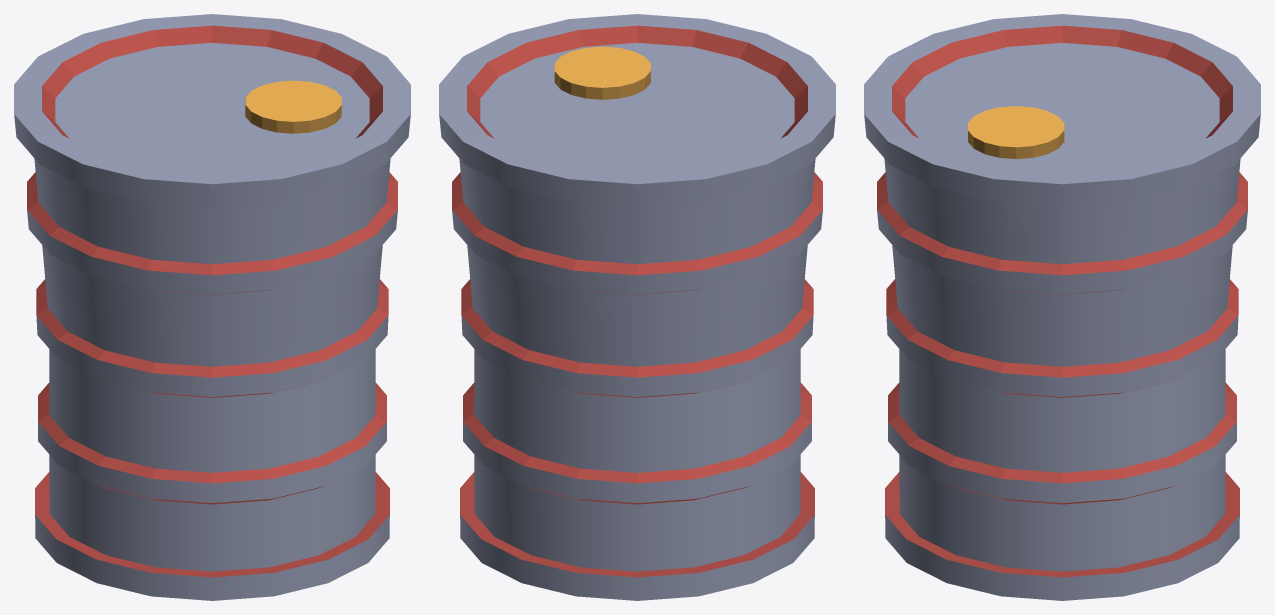
File: Barrel_Red.FBX
The picture shows the model from 3 angles, left to right: view 1: azimuth 30°, elevation 25°; view 2: azimuth 150°, elevation 25°; view 3: azimuth 270°, elevation 25°; orthographic projection.
Visible parts, largest first — view 1: Cylinder006; view 2: Cylinder006; view 3: Cylinder006.
Boxes of the visible parts, left/top/right/bottom form: Cylinder006: left=14, top=14, right=410, bottom=600; Cylinder006: left=439, top=14, right=835, bottom=600; Cylinder006: left=864, top=14, right=1260, bottom=600.
Bounding box in the file's own units: 110 × 128 × 108.
